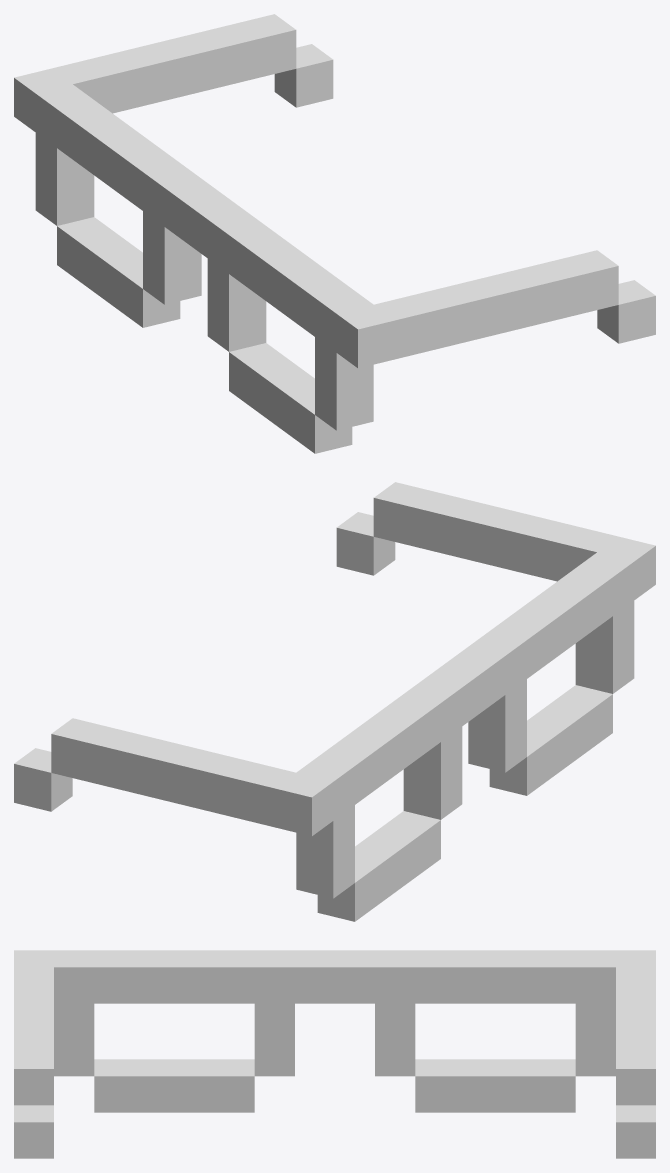
Rendered from Voxel Universe-38-Glasses.obj.
3 views of the same model, one above another, from view 1: azimuth 30°, elevation 25°; view 2: azimuth 150°, elevation 25°; view 3: azimuth 270°, elevation 25° (orthographic). The views are drawn at different scales.
Visible parts, largest first — view 1: Glasses; view 2: Glasses; view 3: Glasses.
Part boxes in pixels (x1,y1,x2,y2): Glasses: [14, 14, 655, 453]; Glasses: [14, 482, 655, 921]; Glasses: [14, 950, 655, 1158].
Size of the model in its own units: 0.8 by 0.4 by 1.6.
Materials: 1 (1 with a texture image).
